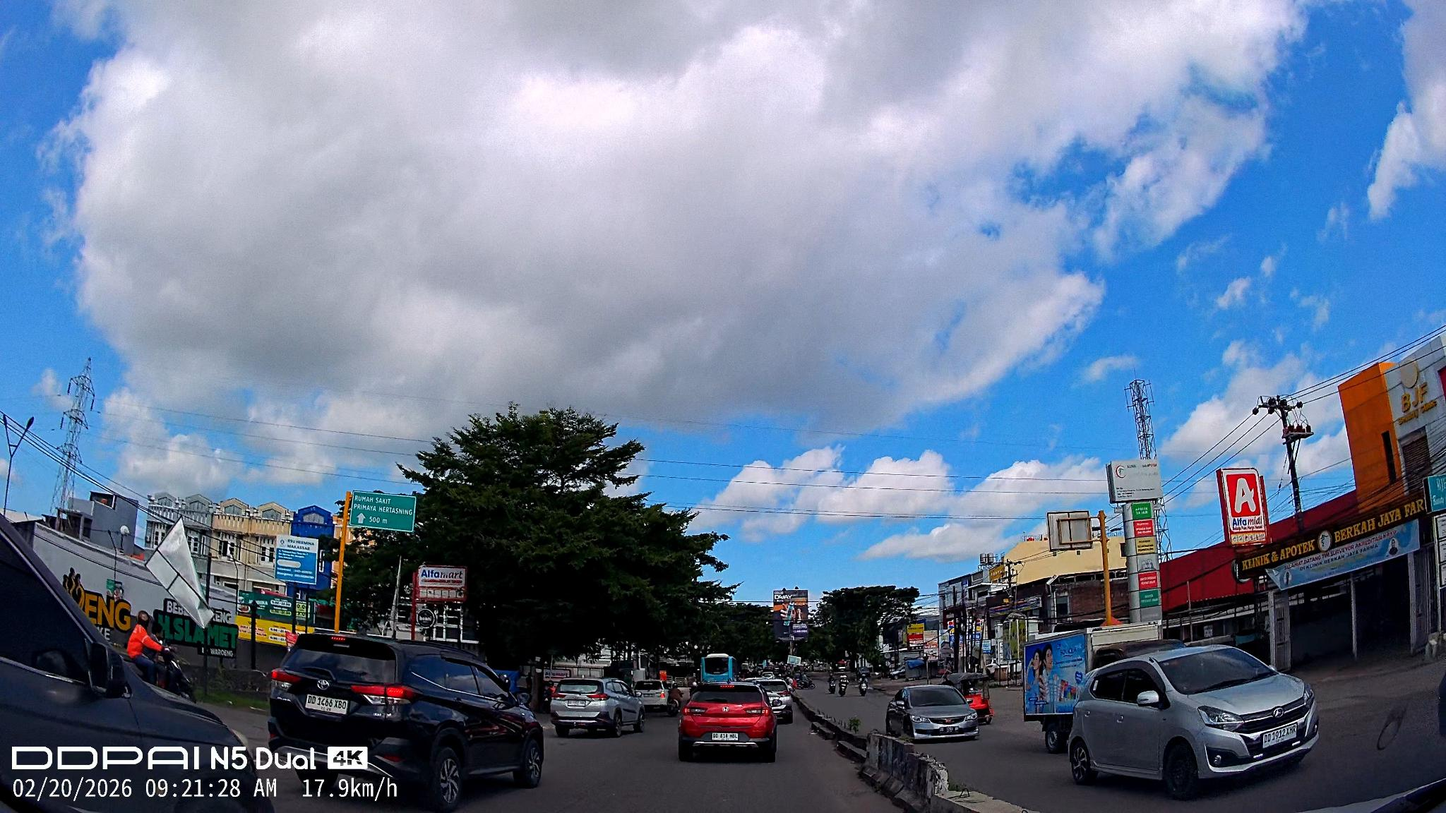rambu_teks: (349, 489, 417, 533)
